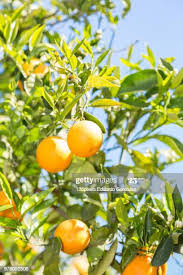orange: (60, 119, 106, 157), (47, 219, 95, 255), (32, 134, 72, 175)
